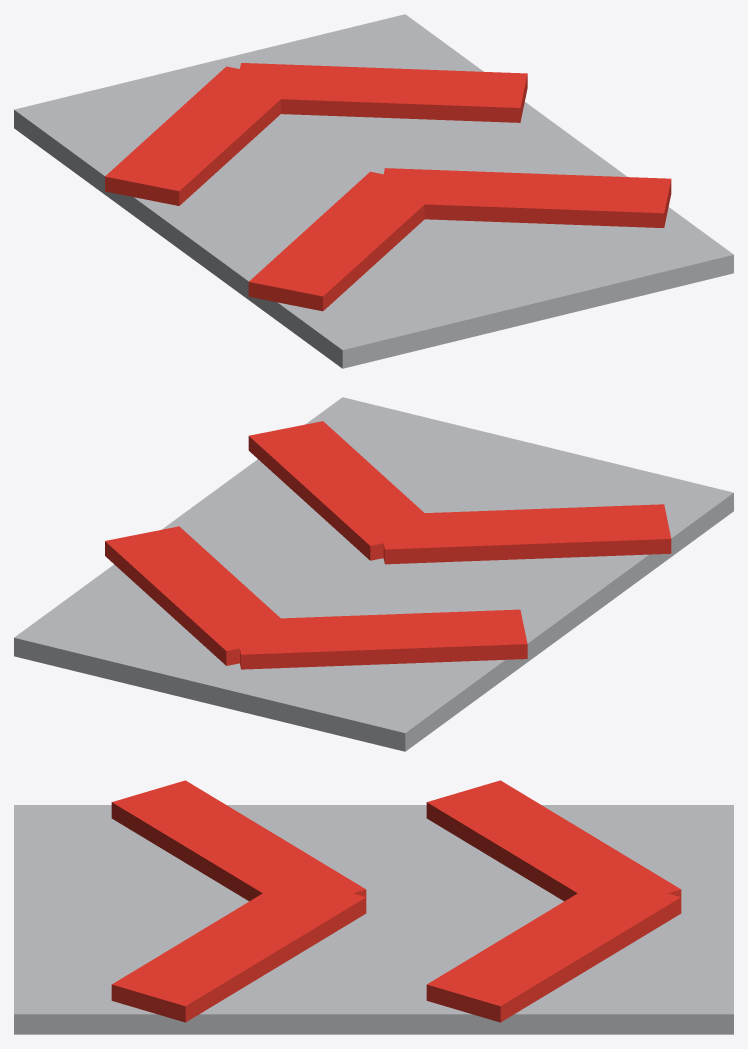
The model's file is station_marking.glb.
3 views of the same model, one above another, from view 1: azimuth 30°, elevation 25°; view 2: azimuth 150°, elevation 25°; view 3: azimuth 270°, elevation 25° (orthographic). The views are drawn at different scales.
Bounding box in the file's own units: 0.2376 × 0.018 × 0.32.
